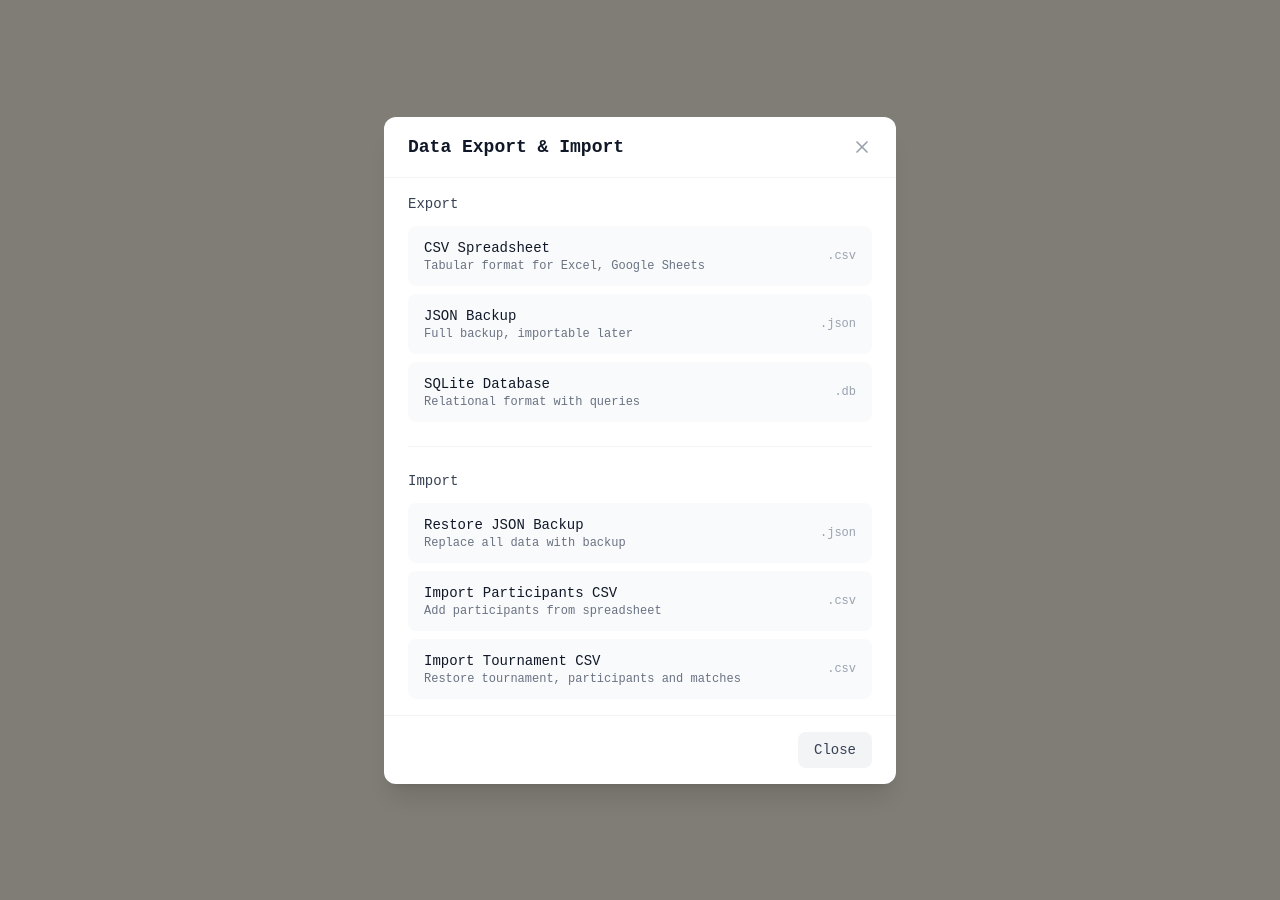
Test case: ExportModal › shows the status message and loading state during an export
Later steps or results of the test are not shown.
Click the text "SQLite Database": (487, 384) left=424, top=376, right=550, bottom=392
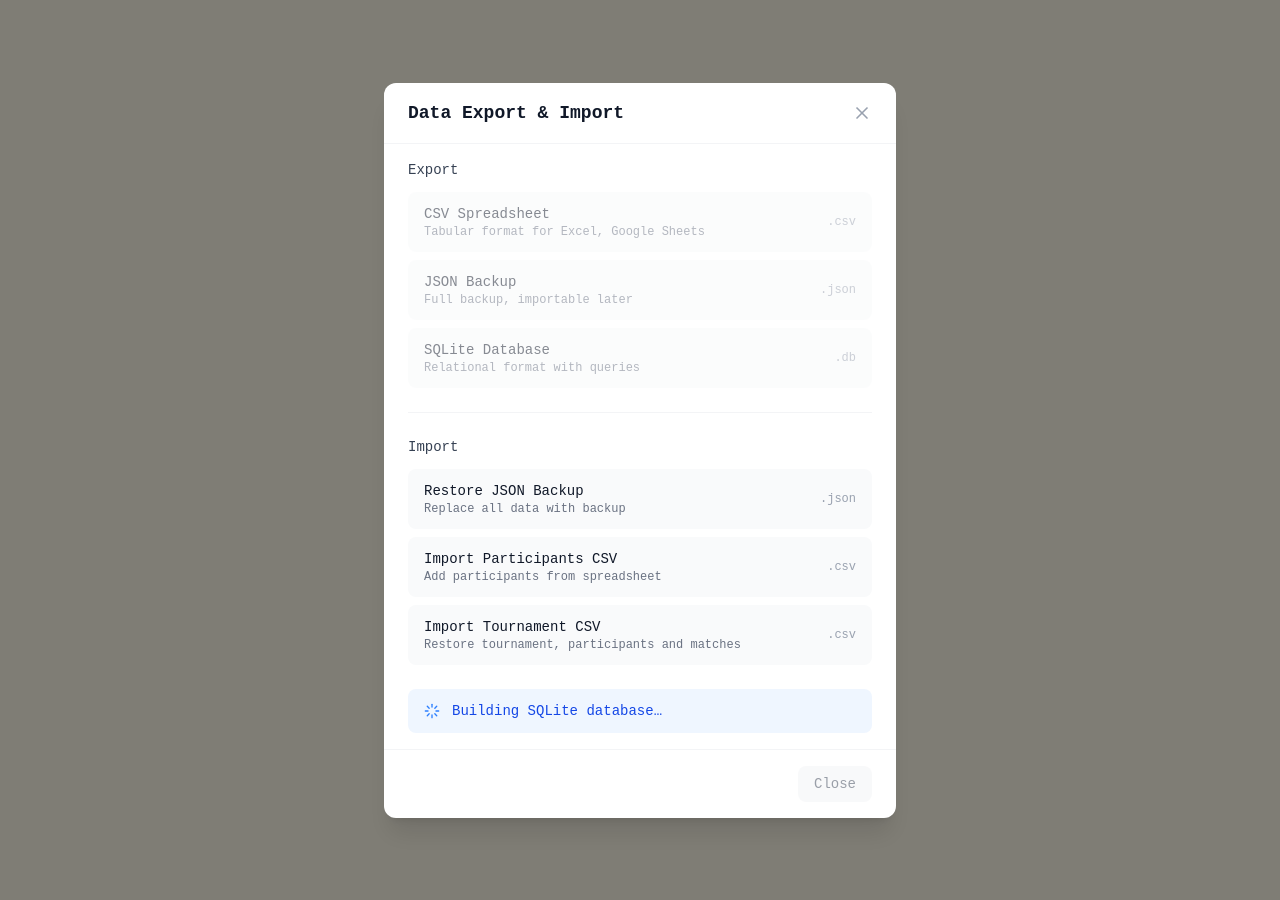
Check: the text "Building SQLite database…" is shown, box left=452, top=700, right=662, bottom=720
Check: the button "Close" is disabled, box left=798, top=766, right=872, bottom=802
